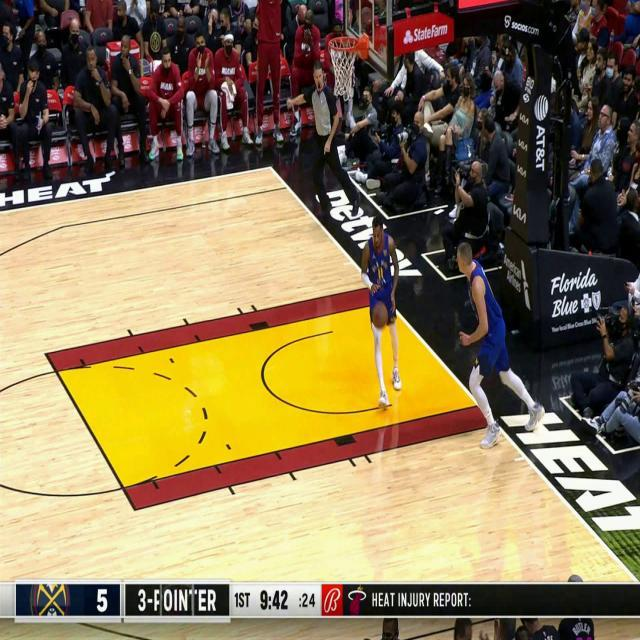rim: (373, 302, 388, 328)
